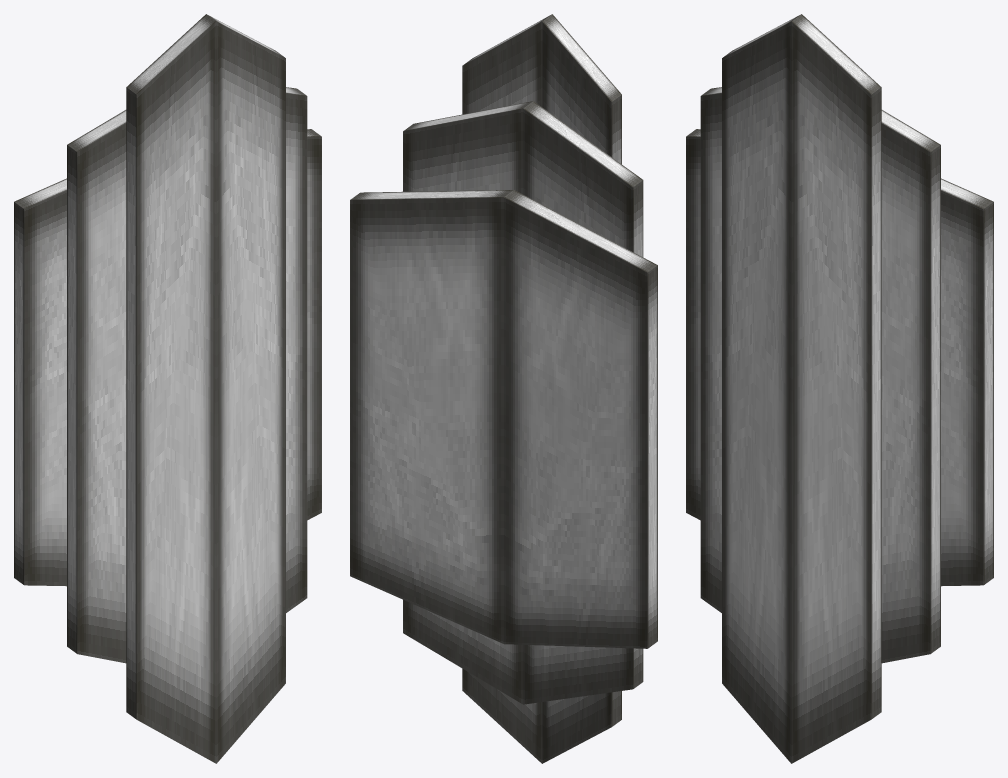
The model's file is Art Deco Fixture 1.fbx.
3 views of the same model, side by side, from view 1: azimuth 30°, elevation 25°; view 2: azimuth 150°, elevation 25°; view 3: azimuth 330°, elevation 25° (orthographic).
Parts seen in each view (by area): view 1: Cube.001; view 2: Cube.001; view 3: Cube.001.
Part boxes in pixels (x1,y1,x2,y2): Cube.001: (14,14,321,763); Cube.001: (350,14,657,763); Cube.001: (686,14,993,763).
Size of the model in its own units: 0.2492 by 0.0778 by 0.5939.
